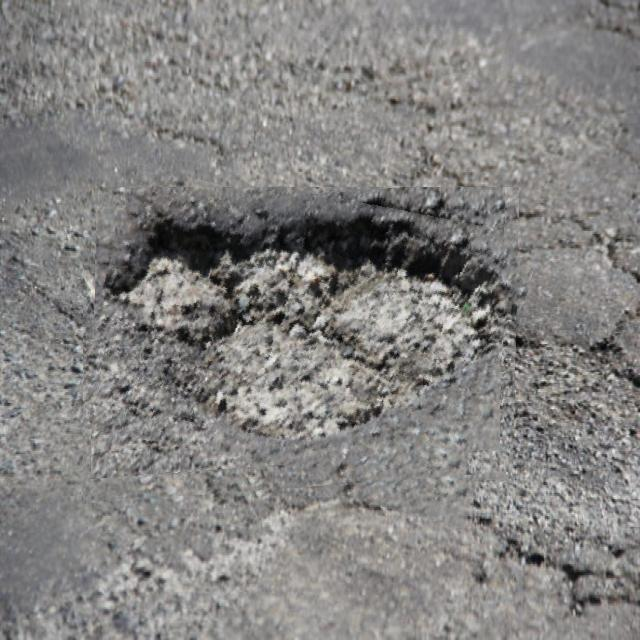Pothole: (83, 187, 520, 504)
